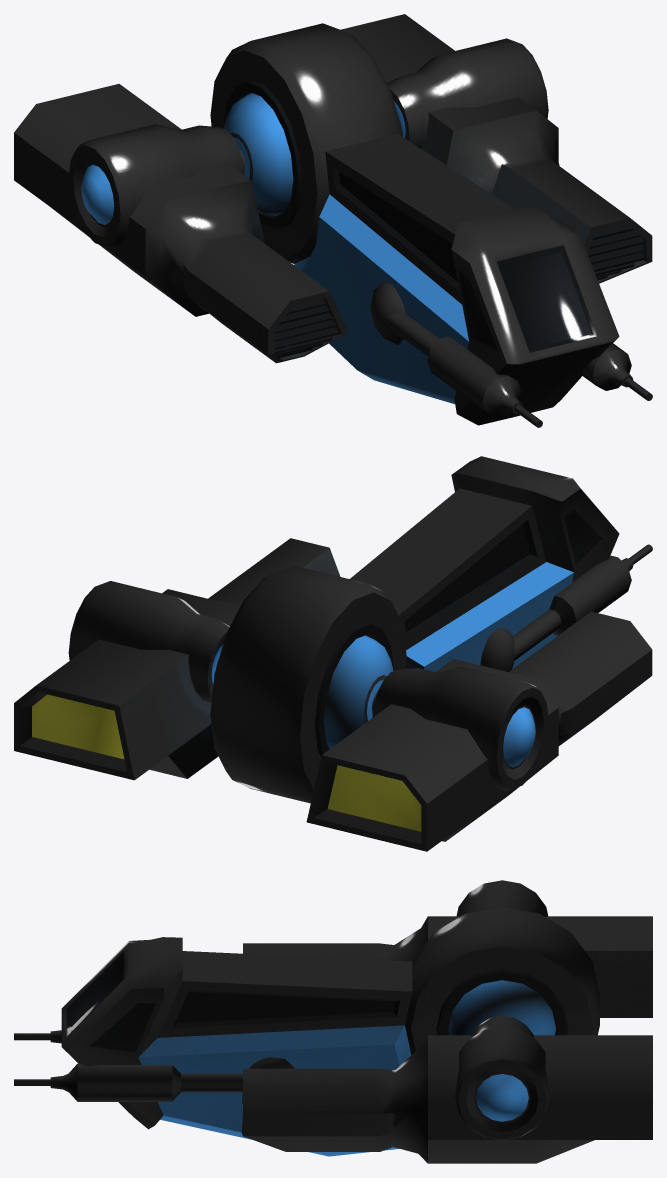
Rendered from hawk.obj.
The picture shows the model from 3 angles, top to bottom: view 1: azimuth 30°, elevation 25°; view 2: azimuth 150°, elevation 25°; view 3: azimuth 270°, elevation 25°; orthographic projection. The views are drawn at different scales.
Visible parts, largest first — view 1: Sphere001; view 2: Sphere001; view 3: Sphere001.
Part boxes in pixels (box(x1,y1,x2,y2)): Sphere001: box(14, 14, 652, 427); Sphere001: box(14, 456, 652, 851); Sphere001: box(14, 880, 652, 1163).
Bounding box in the file's own units: 43.44 × 24.12 × 63.61.
1 material, 1 textured.
